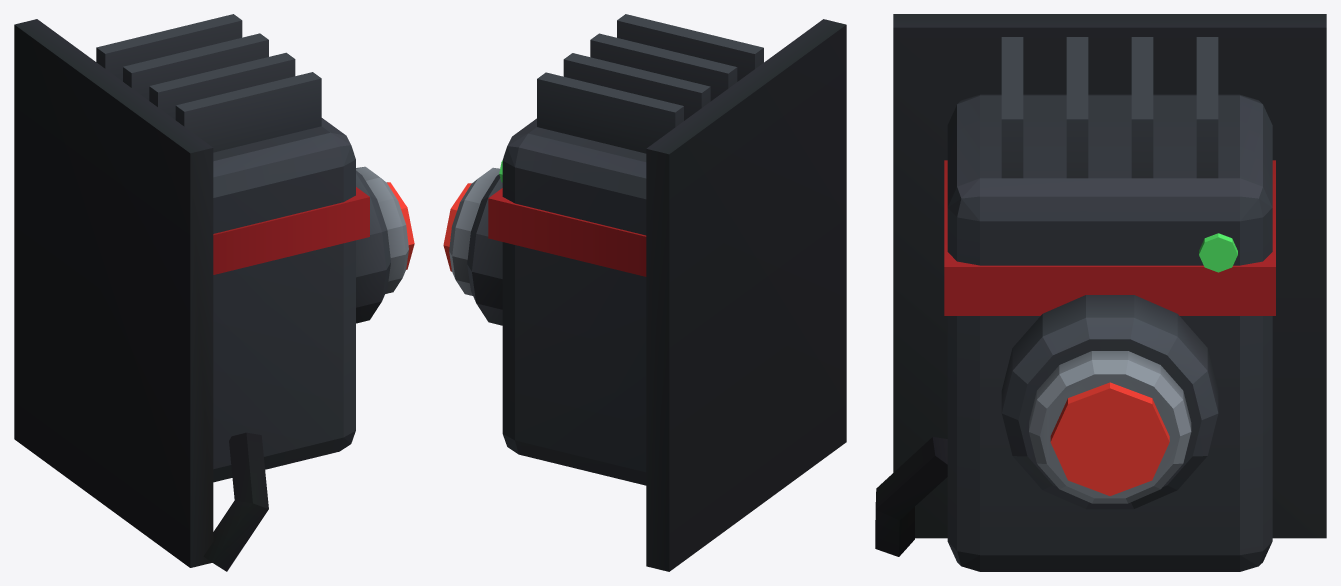
The model's file is laser_emitter.glb.
The picture shows the model from 3 angles, left to right: view 1: azimuth 30°, elevation 25°; view 2: azimuth 150°, elevation 25°; view 3: azimuth 270°, elevation 25°; orthographic projection. The views are drawn at different scales.
Visible parts, largest first — view 1: Body; view 2: Body; view 3: Body, Lens_glow.
Part boxes in pixels (x1,y1,x2,y2): Body: (14,14,408,571); Body: (449,14,846,571); Body: (875,14,1326,571); Lens_glow: (1050,382,1169,495).
Bounding box in the file's own units: 0.378 × 0.5324 × 0.4168.
